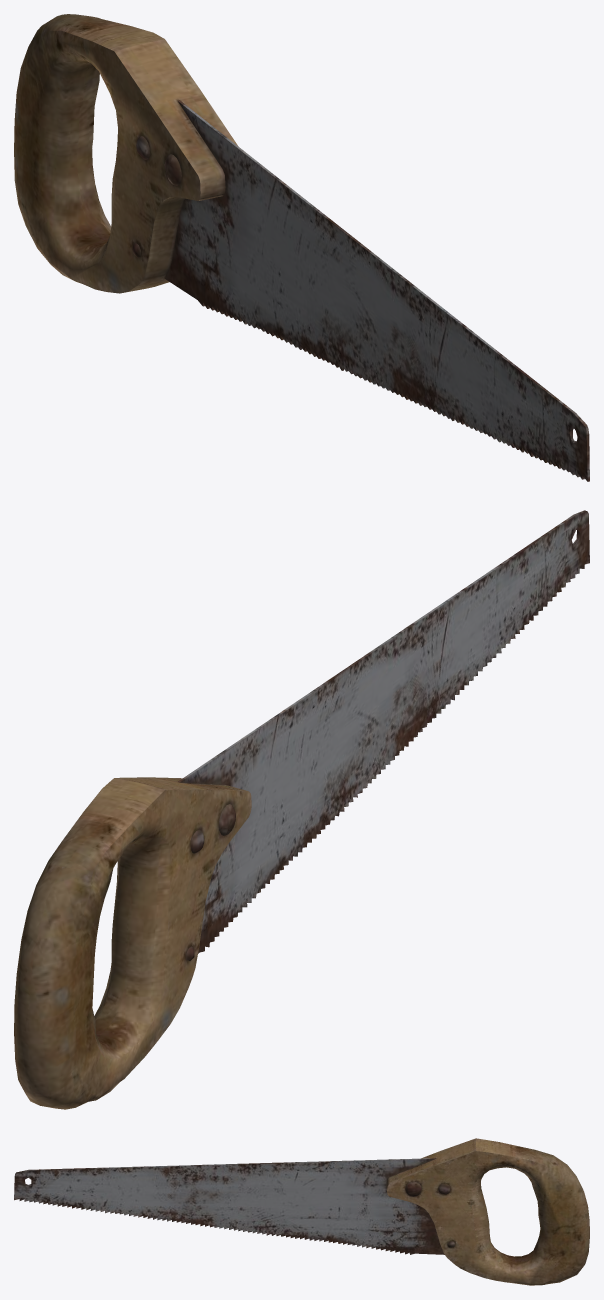
Rendered from handsaw.glb.
3 renders of one model, top to bottom at view 1: azimuth 30°, elevation 25°; view 2: azimuth 150°, elevation 25°; view 3: azimuth 270°, elevation 25°, orthographic. The views are drawn at different scales.
Parts seen in each view (by area): view 1: handsaw_wood; view 2: handsaw_wood; view 3: handsaw_wood.
Part boxes in pixels (x1,y1,x2,y2): handsaw_wood: [14, 14, 589, 481]; handsaw_wood: [14, 510, 589, 1109]; handsaw_wood: [14, 1138, 589, 1285].
Bounding box in the file's own units: 0.0404 × 0.1665 × 0.633.
1 material, 1 textured.
